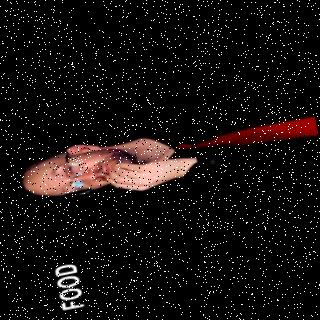Food: (9, 85, 320, 228)
